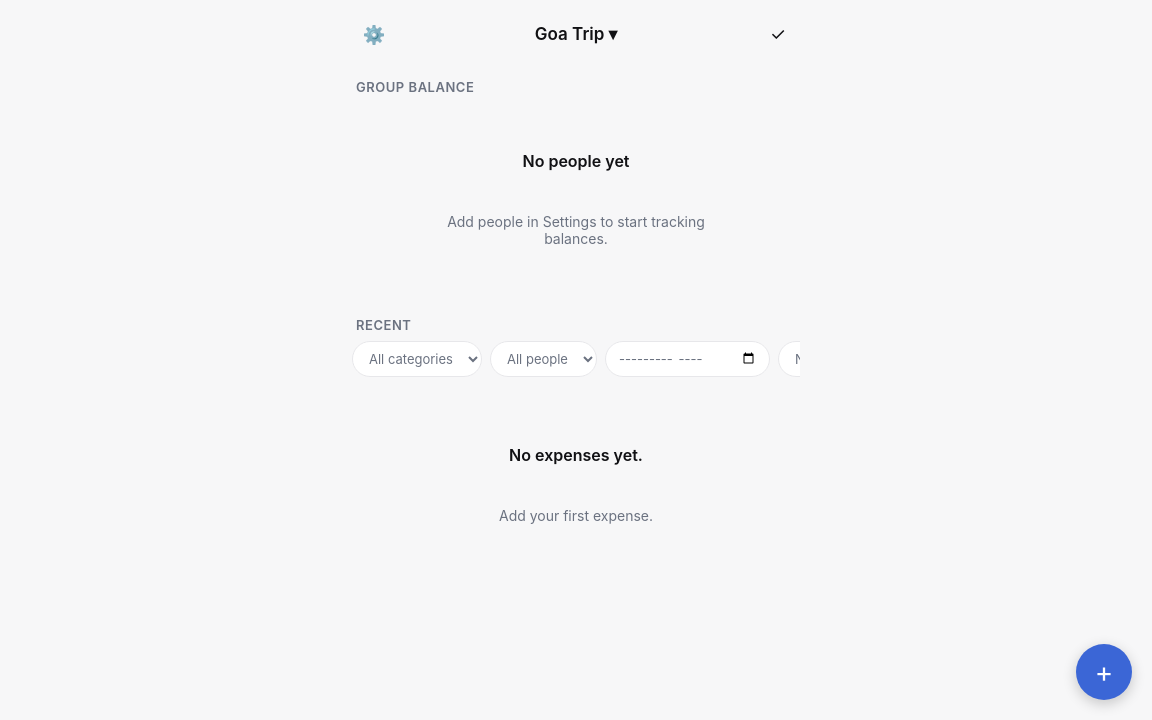
Test: App navigation › switches groups and loads independent data, persisting the selection to localStorage
This screenshot has width=1152, height=720.
Click the button "Goa Trip ▾".
click(576, 34)  # box [404,24,748,44]
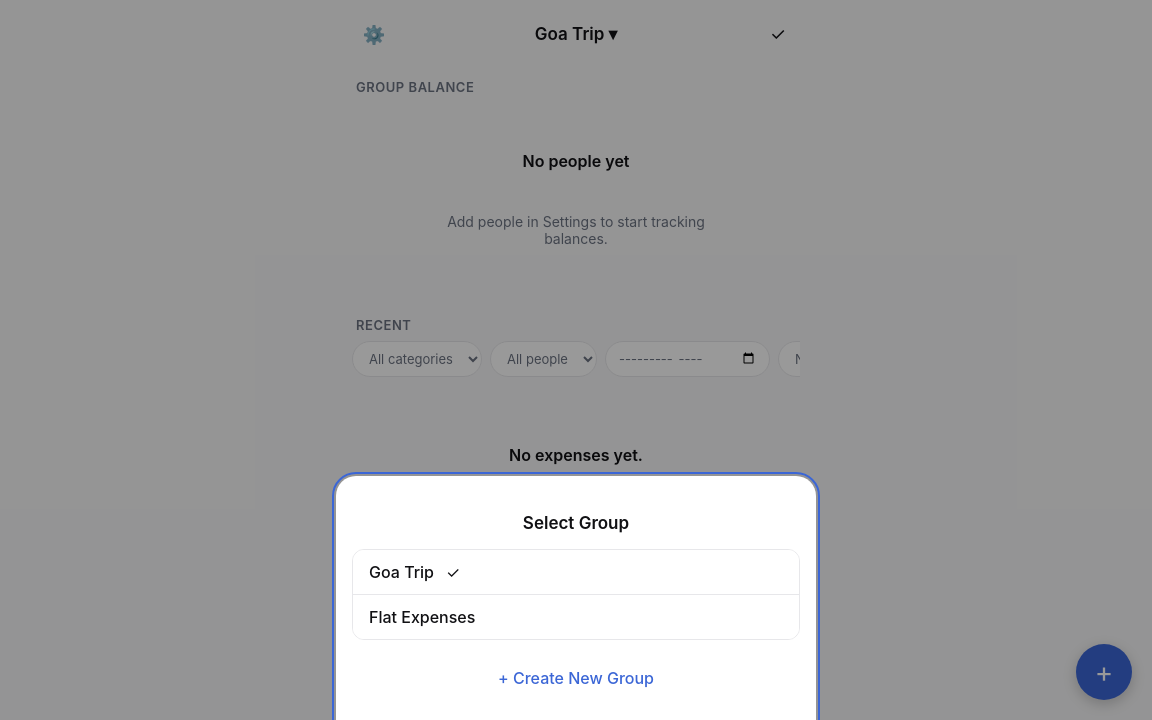
Click the button "Flat Expenses".
click(422, 617)  # box [353,595,799,639]
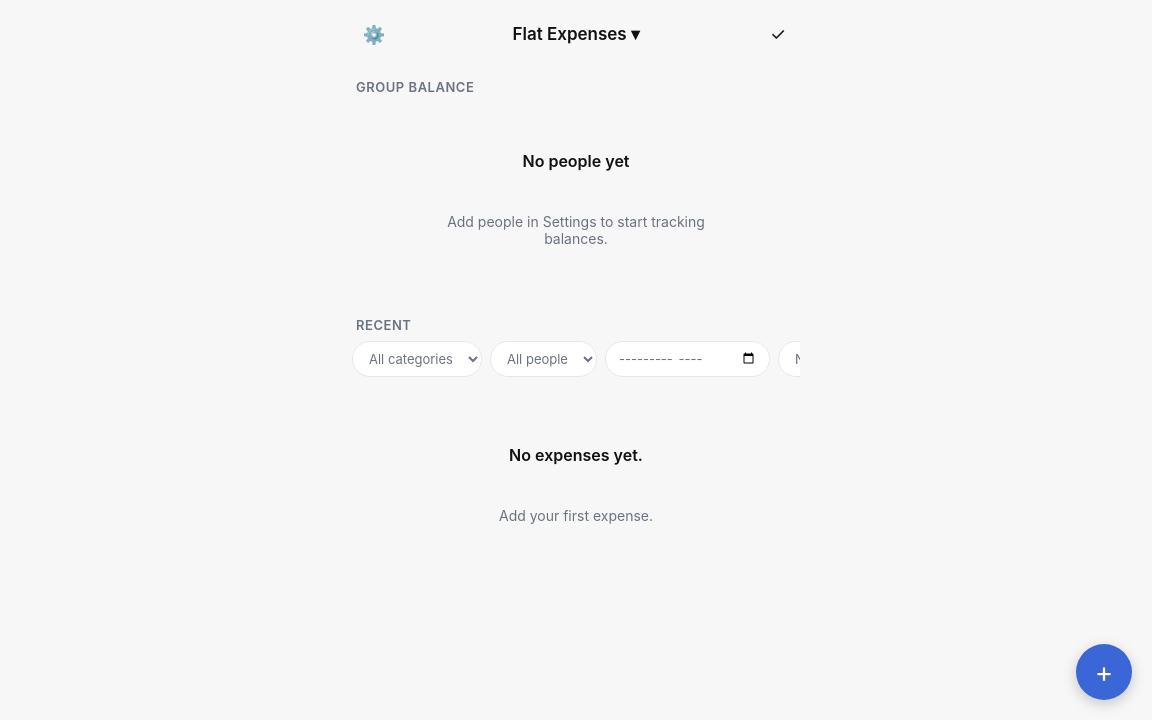
Result: the button "Flat Expenses ▾" is shown at [404,24,748,44]
